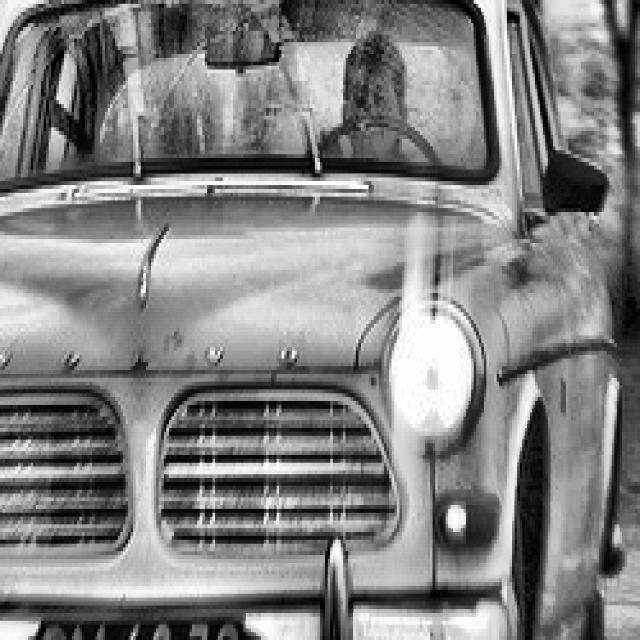light_vehicle: (0, 0, 625, 640)
